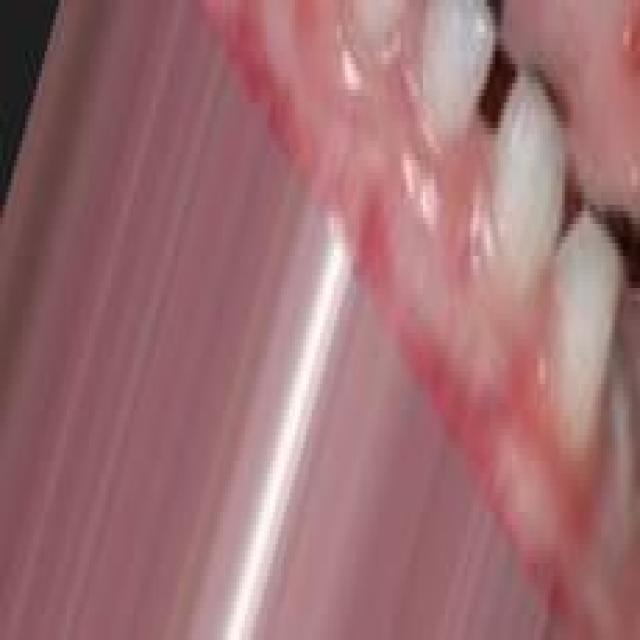caries: (518, 30, 576, 170), (579, 166, 640, 288)
